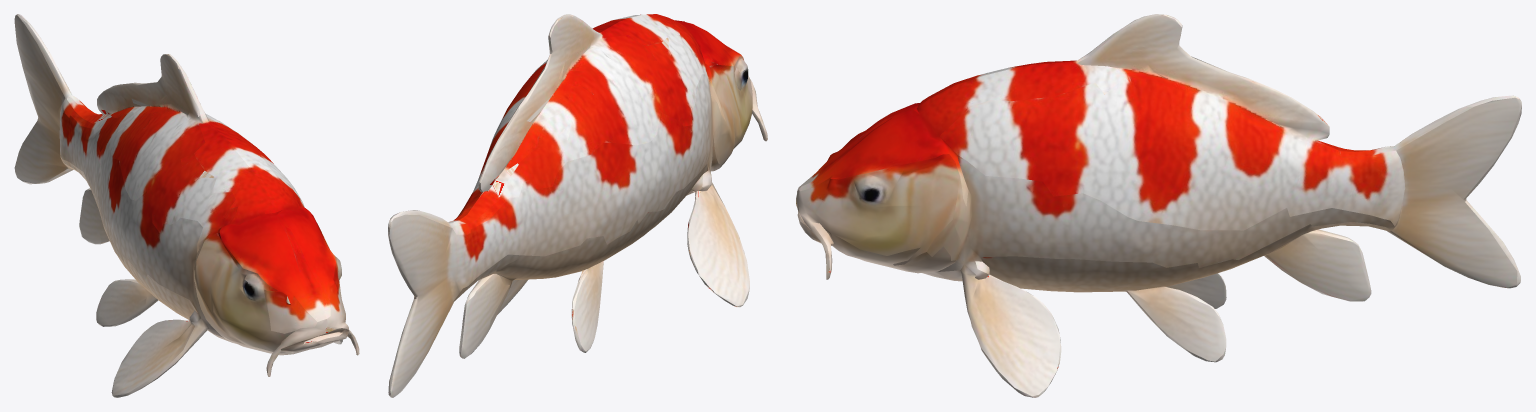
The model's file is koi.glb.
3 views of the same model, side by side, from view 1: azimuth 30°, elevation 25°; view 2: azimuth 150°, elevation 25°; view 3: azimuth 270°, elevation 25° (orthographic). The views are drawn at different scales.
Visible parts, largest first — view 1: world; view 2: world; view 3: world.
Part boxes in pixels (x1,y1,x2,y2): world: (14, 14, 359, 397); world: (388, 14, 767, 397); world: (796, 14, 1521, 397).
Size of the model in its own units: 0.4173 by 0.4898 by 1.
Materials: 1 (1 with a texture image).
